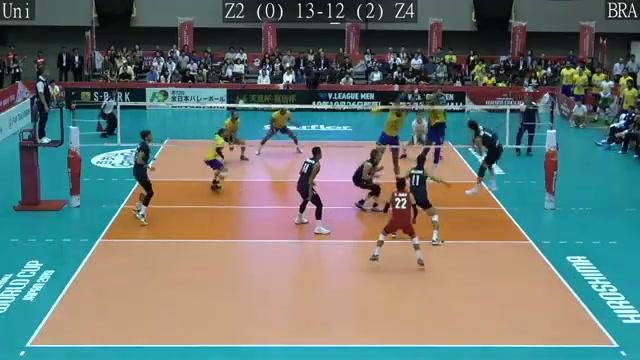ball: (364, 101, 382, 117)
